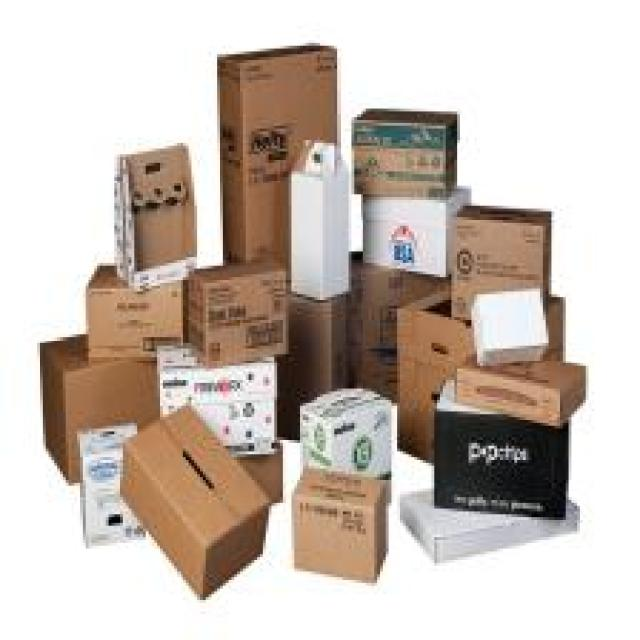box: (97, 4, 605, 592)
tear: (96, 140, 371, 570)
